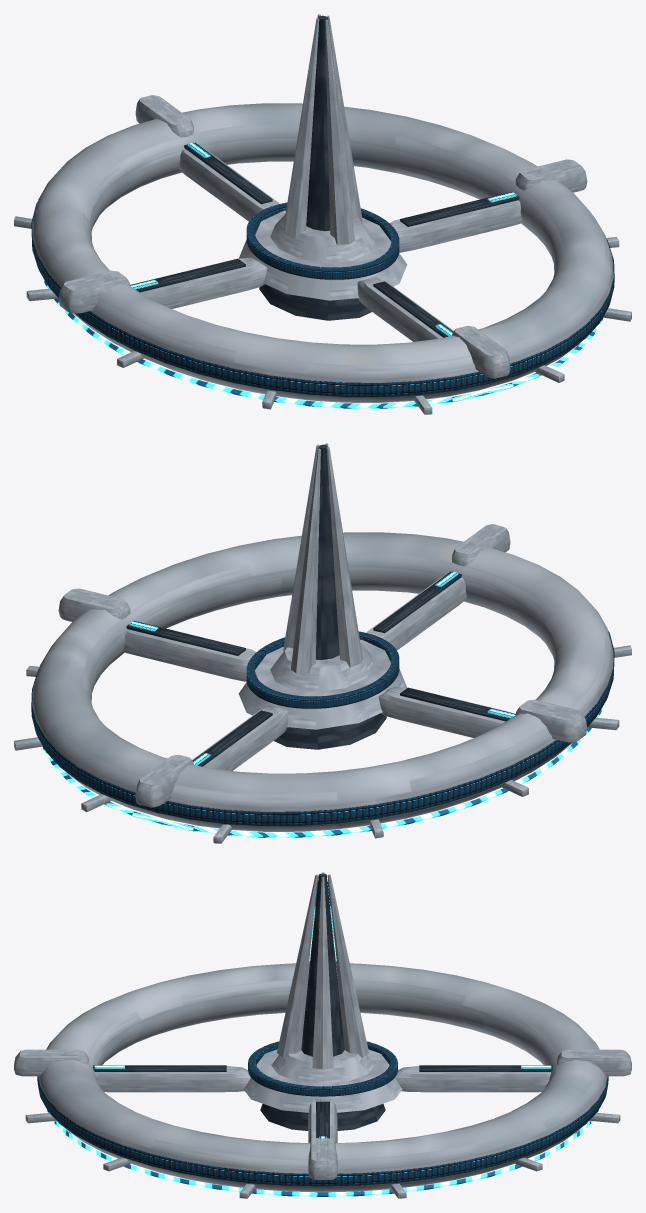
The model's file is alliance_starbase_recreated_lod2.glb.
3 renders of one model, top to bottom at view 1: azimuth 30°, elevation 25°; view 2: azimuth 150°, elevation 25°; view 3: azimuth 270°, elevation 25°, orthographic. The views are drawn at different scales.
Visible parts, largest first — view 1: alliance_starbase_far_source; view 2: alliance_starbase_far_source; view 3: alliance_starbase_far_source.
Part boxes in pixels (box(x1,y1,x2,y2)): alliance_starbase_far_source: box(14, 14, 631, 414); alliance_starbase_far_source: box(14, 443, 631, 843); alliance_starbase_far_source: box(14, 872, 631, 1198).
Size of the model in its own units: 28.44 by 14.33 by 34.07.
1 material, 1 textured.
